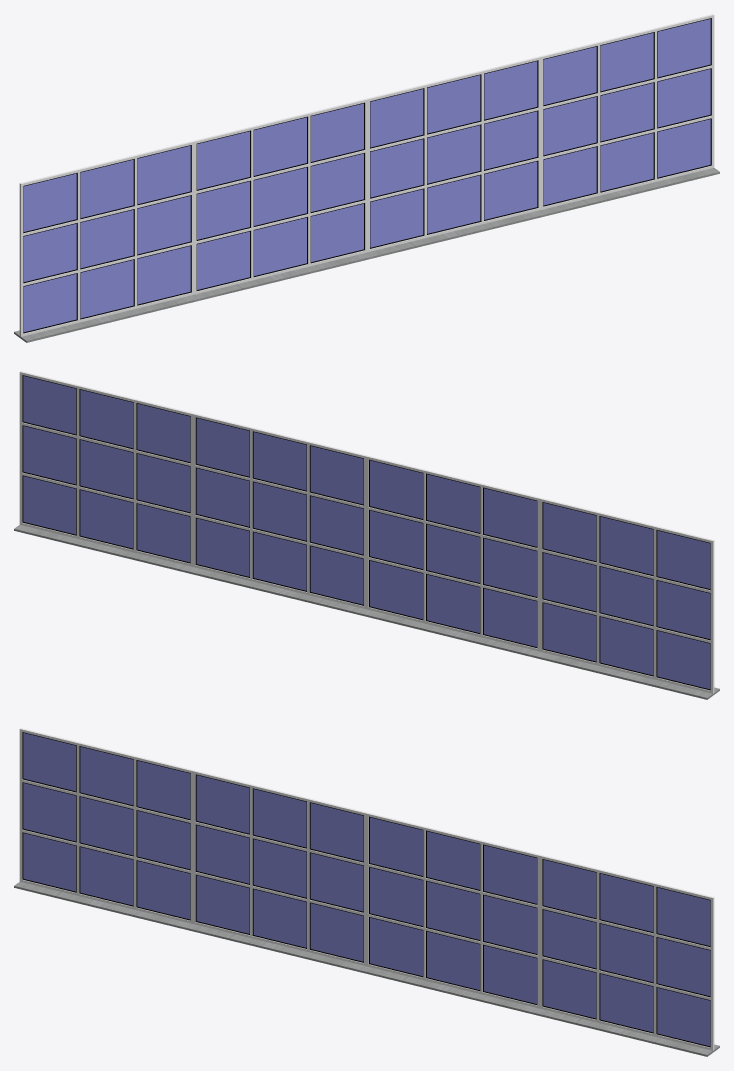
File: Window.fbx
3 views of the same model, one above another, from view 1: azimuth 30°, elevation 25°; view 2: azimuth 150°, elevation 25°; view 3: azimuth 330°, elevation 25° (orthographic).
Visible parts, largest first — view 1: Window.001; view 2: Window.001; view 3: Window.001.
Boxes of the visible parts, box(x1,y1,x2,y2) form: Window.001: box(14, 14, 719, 342); Window.001: box(14, 371, 719, 699); Window.001: box(14, 728, 719, 1056).
Bounding box in the file's own units: 1520 × 324 × 48.
